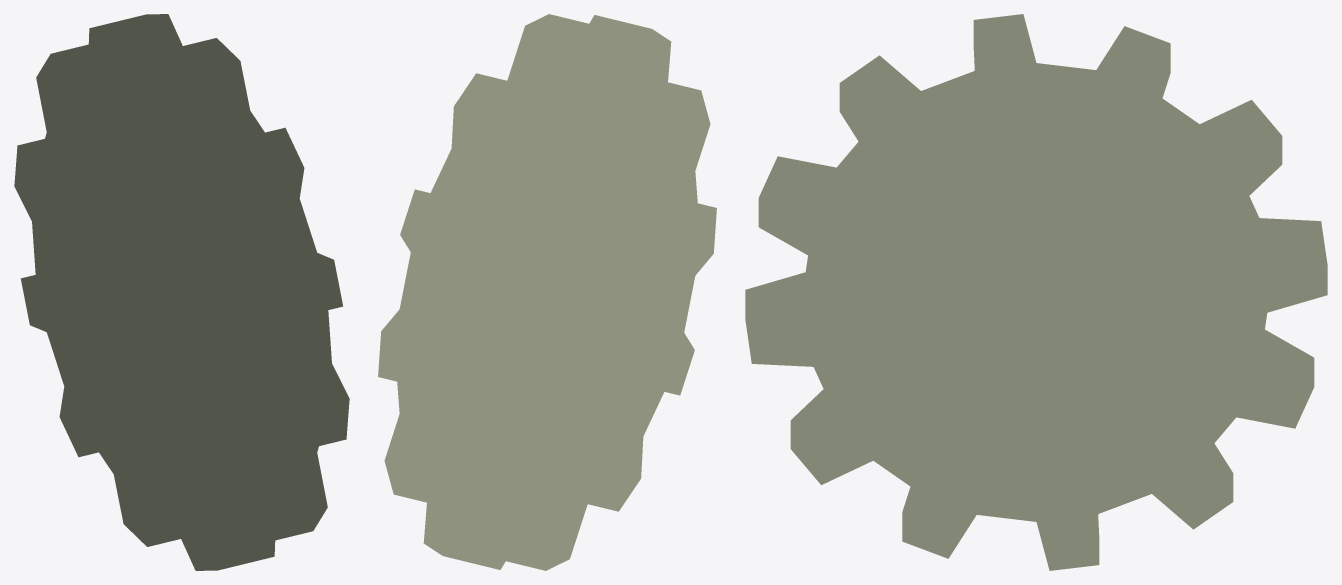
Rendered from gear2.dae.
The picture shows the model from 3 angles, left to right: view 1: azimuth 30°, elevation 25°; view 2: azimuth 150°, elevation 25°; view 3: azimuth 270°, elevation 25°; orthographic projection. The views are drawn at different scales.
Visible parts, largest first — view 1: Gear3-0; view 2: Gear3-0; view 3: Gear3-0.
Boxes of the visible parts, x1,y1,x2,y2 form: Gear3-0: [14, 14, 349, 570]; Gear3-0: [378, 14, 716, 570]; Gear3-0: [745, 14, 1327, 570].
Bounding box in the file's own units: 101 × 611 × 611.
